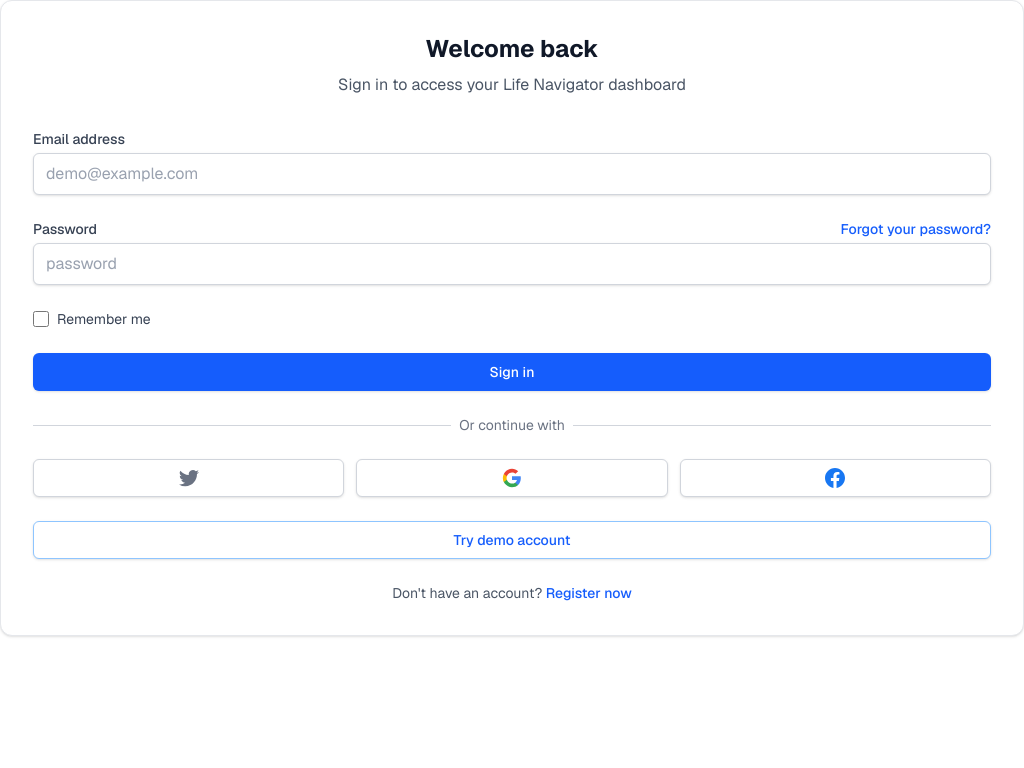
Test: LoginForm › handles failed login
Step 1. Type "test@example.com" into the field labelled "Email address" → (512, 174), box 33,153 -> 991,195
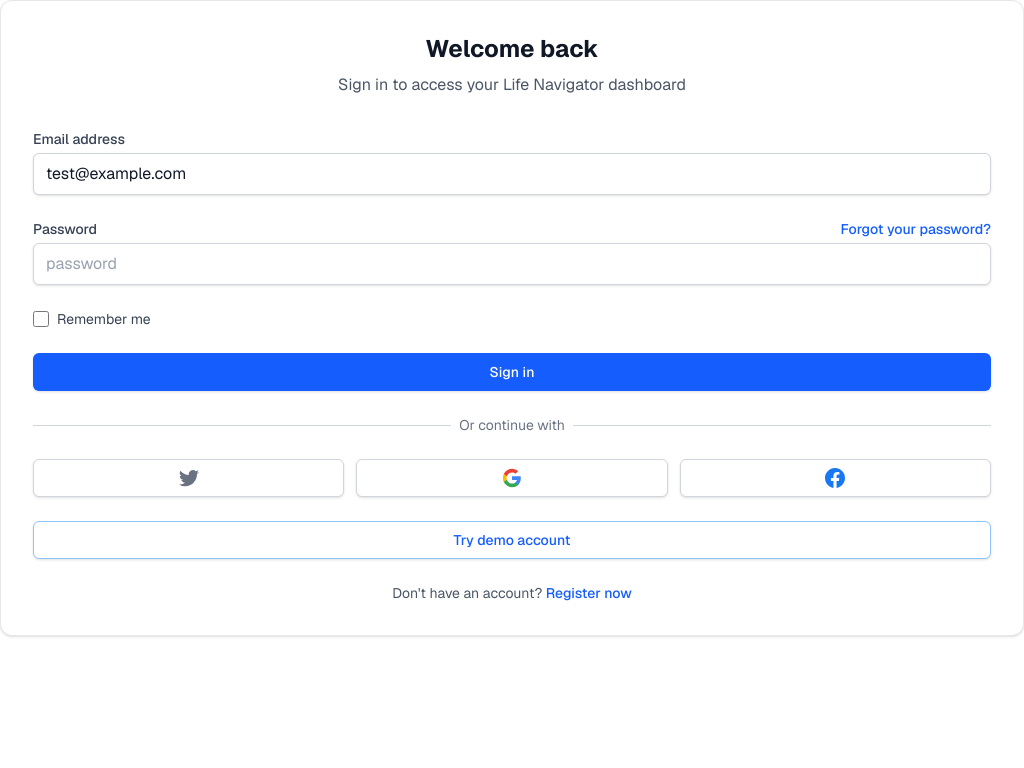
Step 2. Type "wrongpassword" into the password field labelled "Password" → (512, 264), box 33,243 -> 991,285
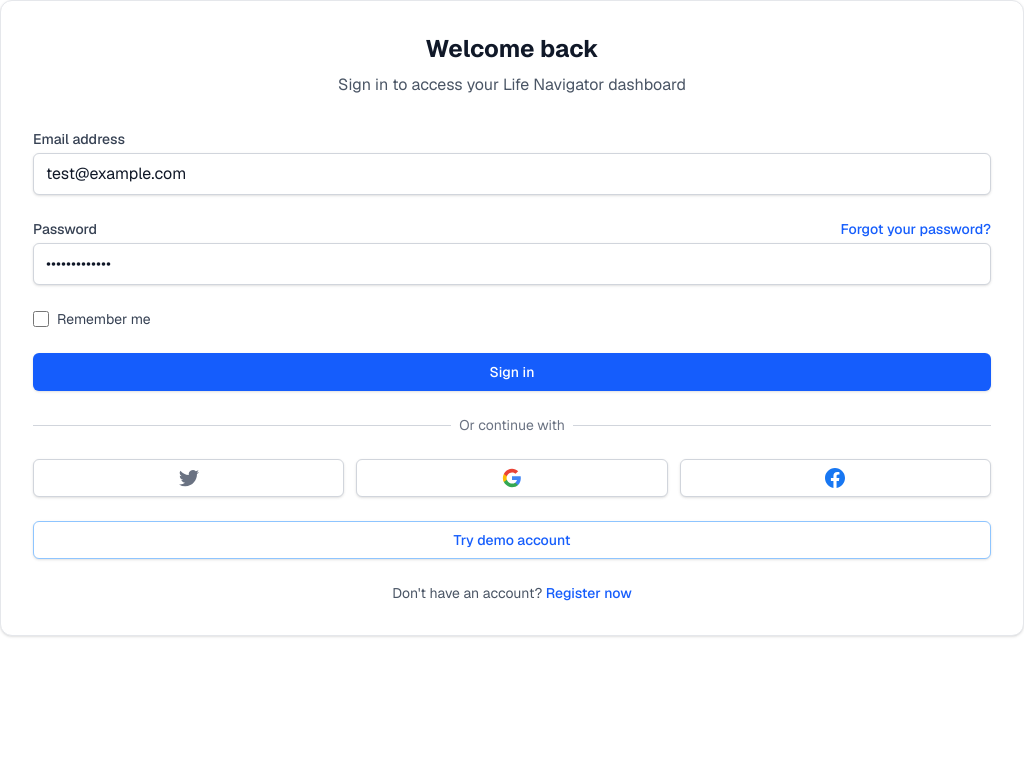
Step 3. Click the button "Sign in" → click(512, 372), box 33,353 -> 991,391
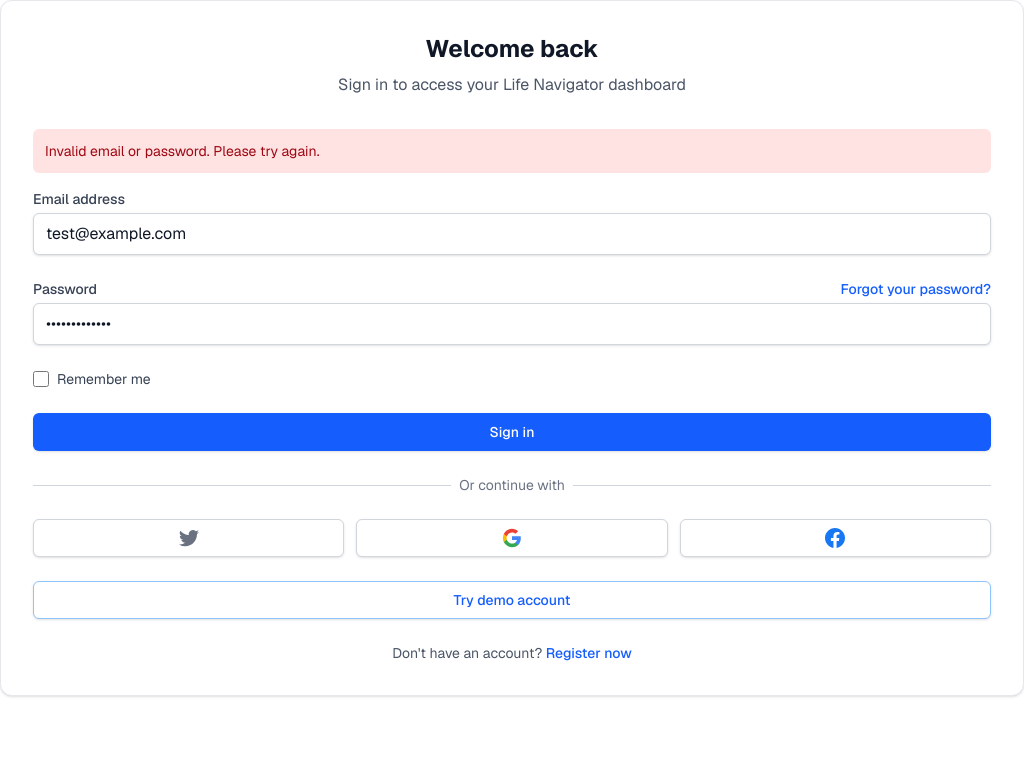
Check: the text "Invalid email or password. Please try again." is shown, box 33,129 -> 991,173
